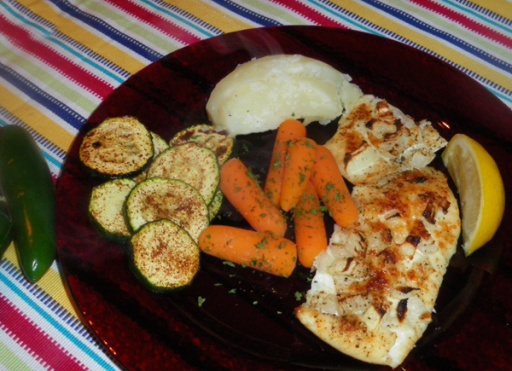background: (62, 31, 405, 214), (0, 71, 46, 163)
